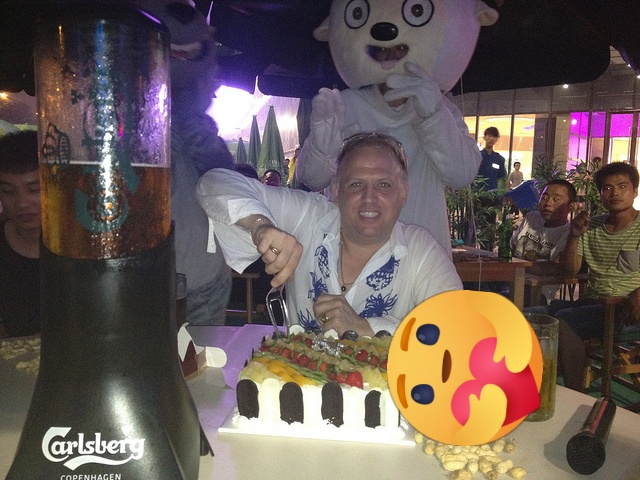care: (387, 290, 543, 446)
